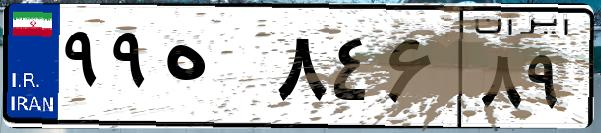4: (330, 28, 385, 110)
6: (385, 28, 445, 110)
8: (270, 28, 330, 110), (475, 38, 525, 113)
9: (57, 26, 110, 100), (525, 38, 570, 115), (110, 28, 158, 98)
ه: (158, 20, 270, 120)
